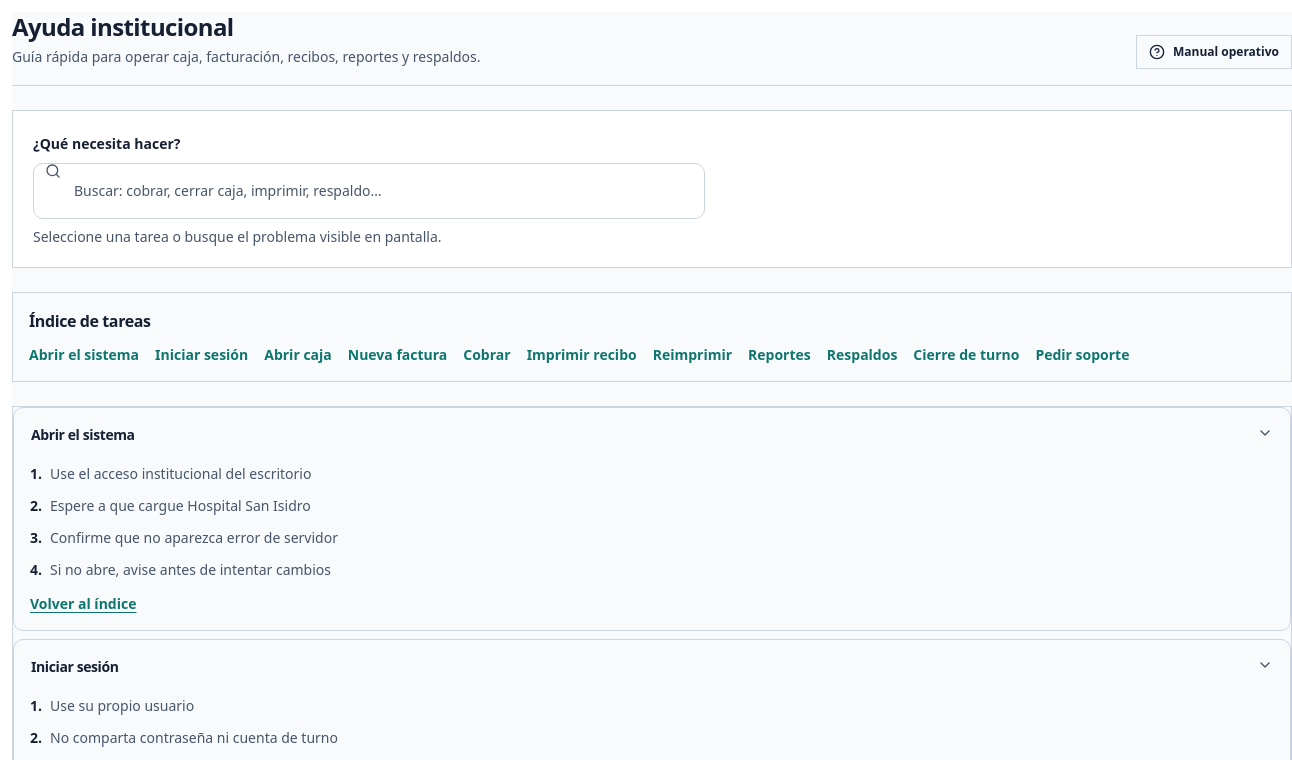
it: HelpView › filtra tareas por lenguaje operativo sin exigir términos técnicos
Type "cobrar" into the search field labelled "¿Qué necesita hacer?".
click(369, 191); type("cobrar")  # box [33, 163, 705, 219]
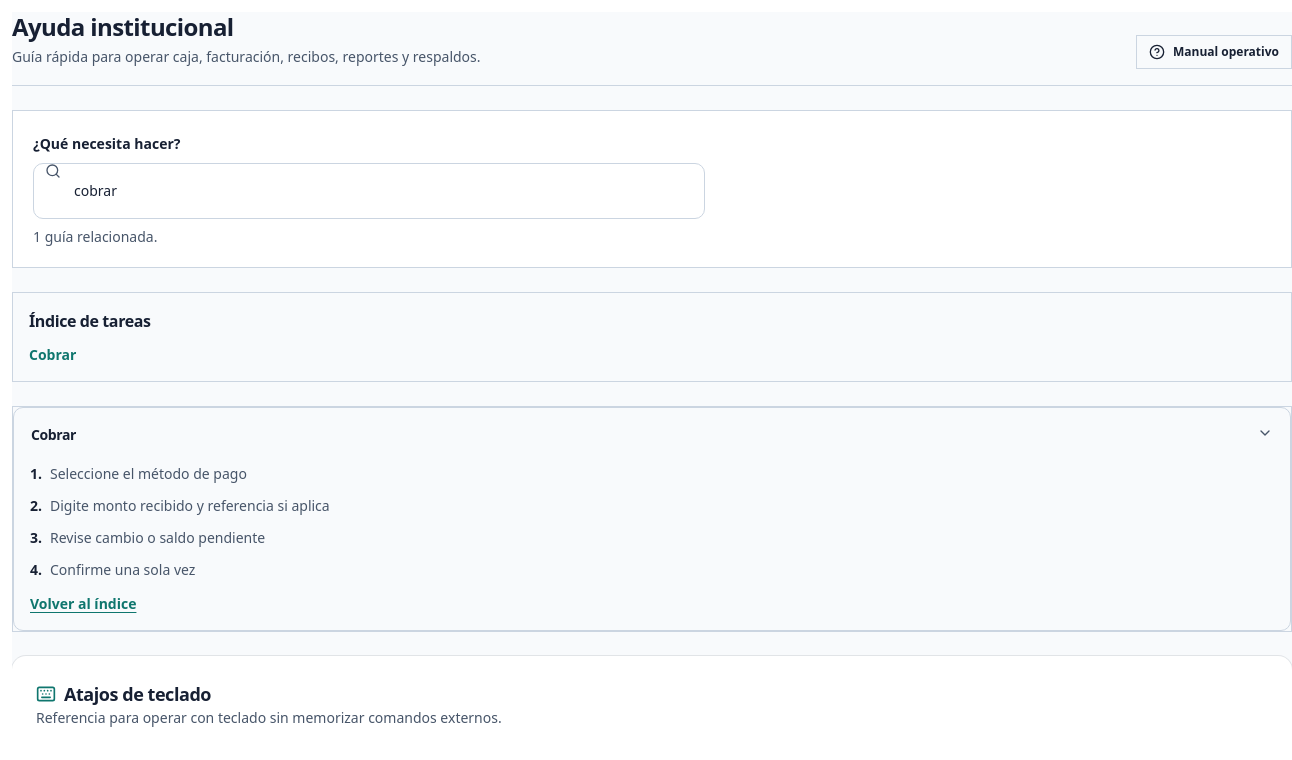
Expected: the heading "Cobrar" is shown, [30, 408, 1274, 462]
Now the message shows "guía relacionada", box [33, 227, 157, 246]
